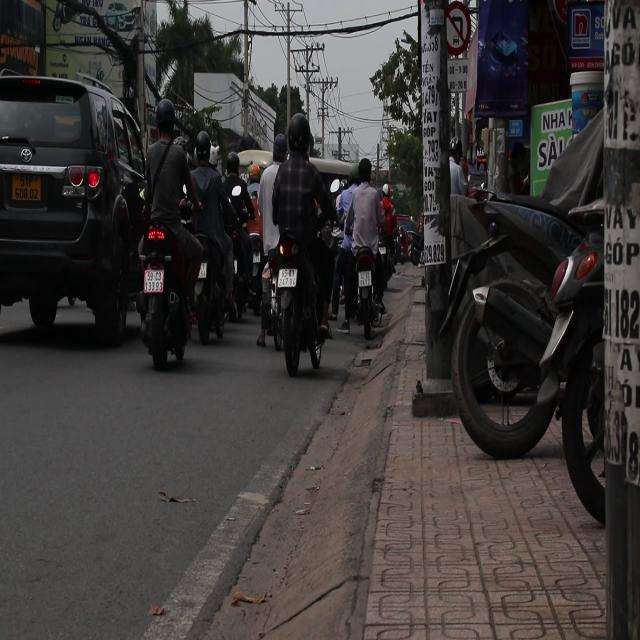car: (0, 73, 150, 342)
motorbike: (274, 193, 326, 391), (133, 215, 194, 368), (182, 198, 228, 346), (215, 197, 259, 339), (348, 193, 381, 351)
